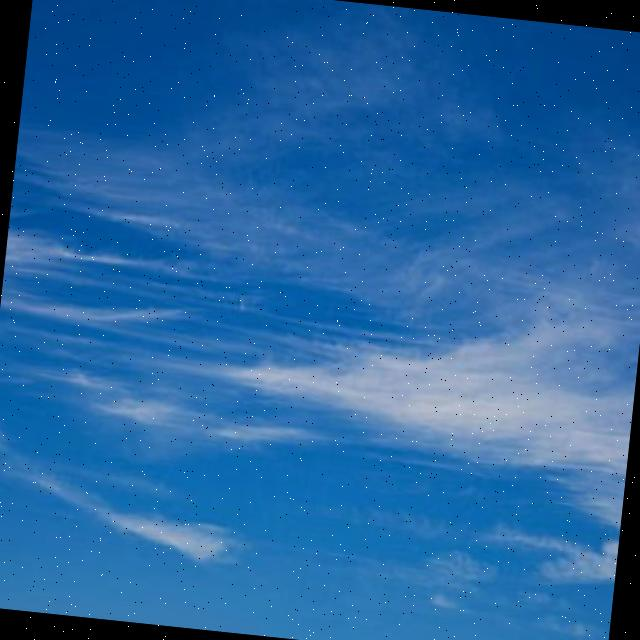Ci: (1, 7, 640, 547)
